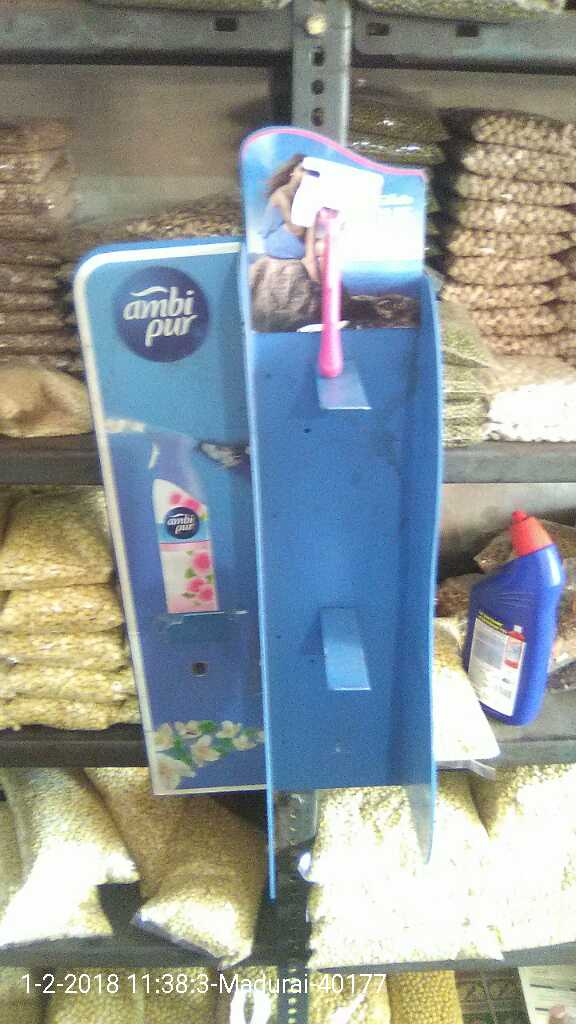reject: (304, 398, 419, 537)
